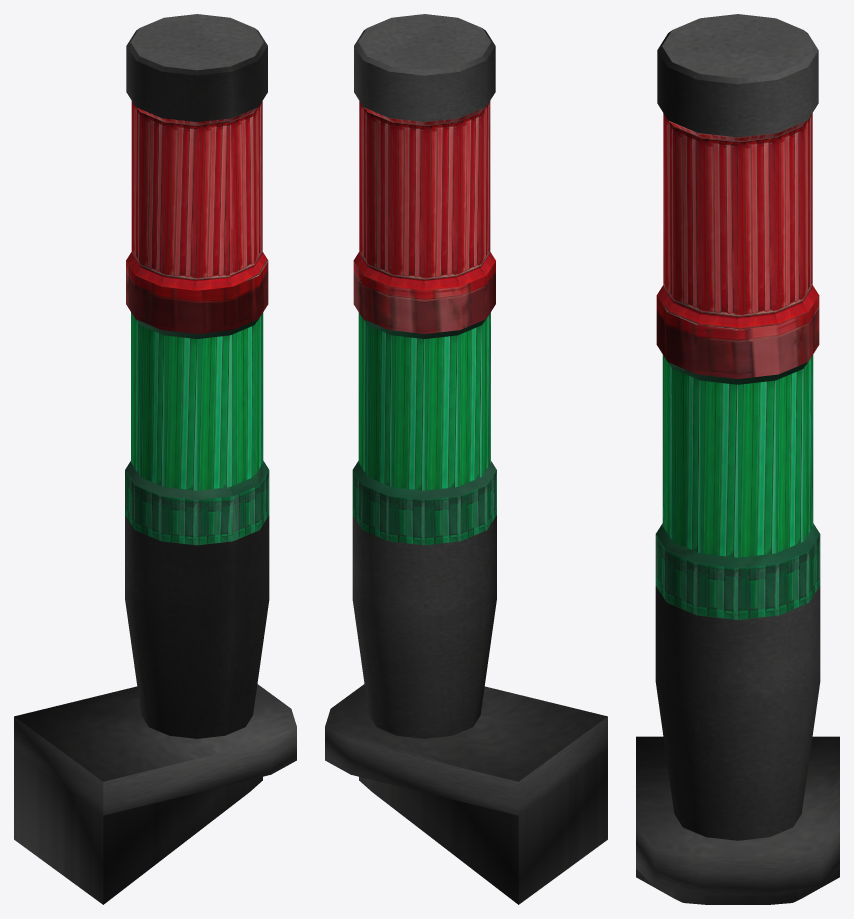
File: yesilkirmiziisik.fbx
3 views of the same model, side by side, from view 1: azimuth 30°, elevation 25°; view 2: azimuth 150°, elevation 25°; view 3: azimuth 270°, elevation 25° (orthographic). The views are drawn at different scales.
Parts seen in each view (by area): view 1: Cylinder.003; view 2: Cylinder.003; view 3: Cylinder.003.
Part boxes in pixels (x1=…): Cylinder.003: x1=14, y1=14, x2=296, y2=904; Cylinder.003: x1=325, y1=14, x2=607, y2=904; Cylinder.003: x1=636, y1=14, x2=839, y2=904.
Size of the model in its own units: 0.1611 by 0.1154 by 0.5677.
1 material, 1 textured.
